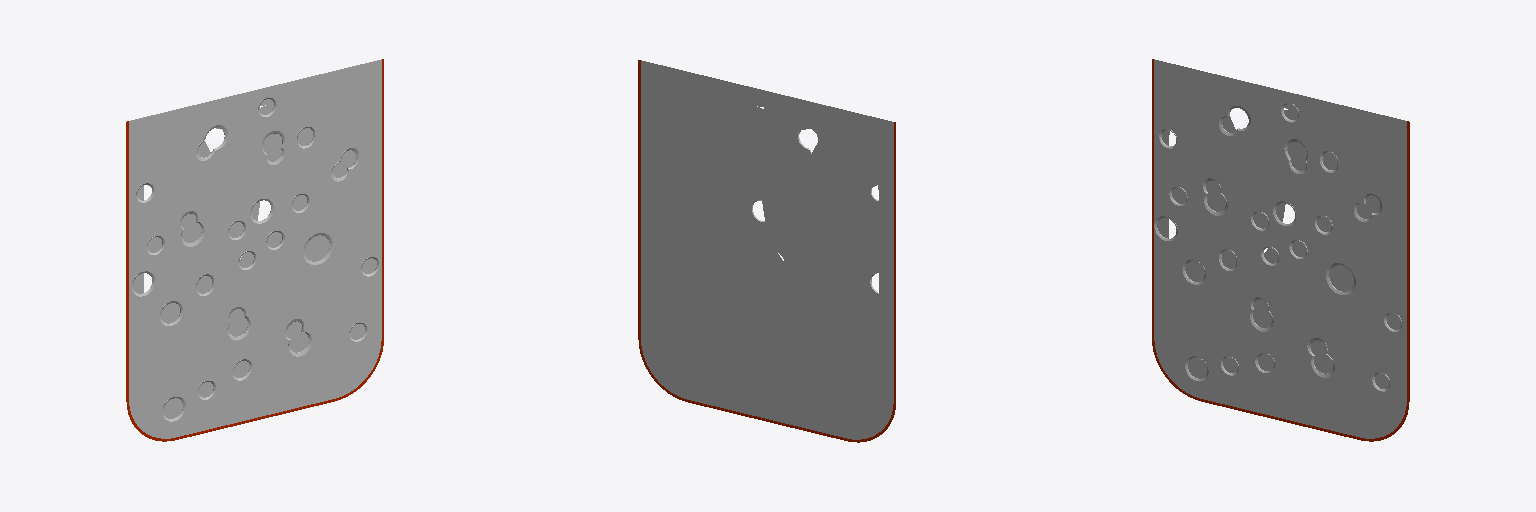
Rendered from Speelveld_002.obj.
The picture shows the model from 3 angles: view 1: azimuth 30°, elevation 25°; view 2: azimuth 150°, elevation 25°; view 3: azimuth 330°, elevation 25°; orthographic projection.
Visible parts, largest first — view 1: Level_002_Plane.002; view 2: Level_002_Plane.002; view 3: Level_002_Plane.002.
Boxes of the visible parts, <box> form: Level_002_Plane.002: <box>126,59,383,441</box>; Level_002_Plane.002: <box>638,60,895,442</box>; Level_002_Plane.002: <box>1152,59,1409,441</box>.
Size of the model in its own units: 26 by 31.87 by 0.2235.